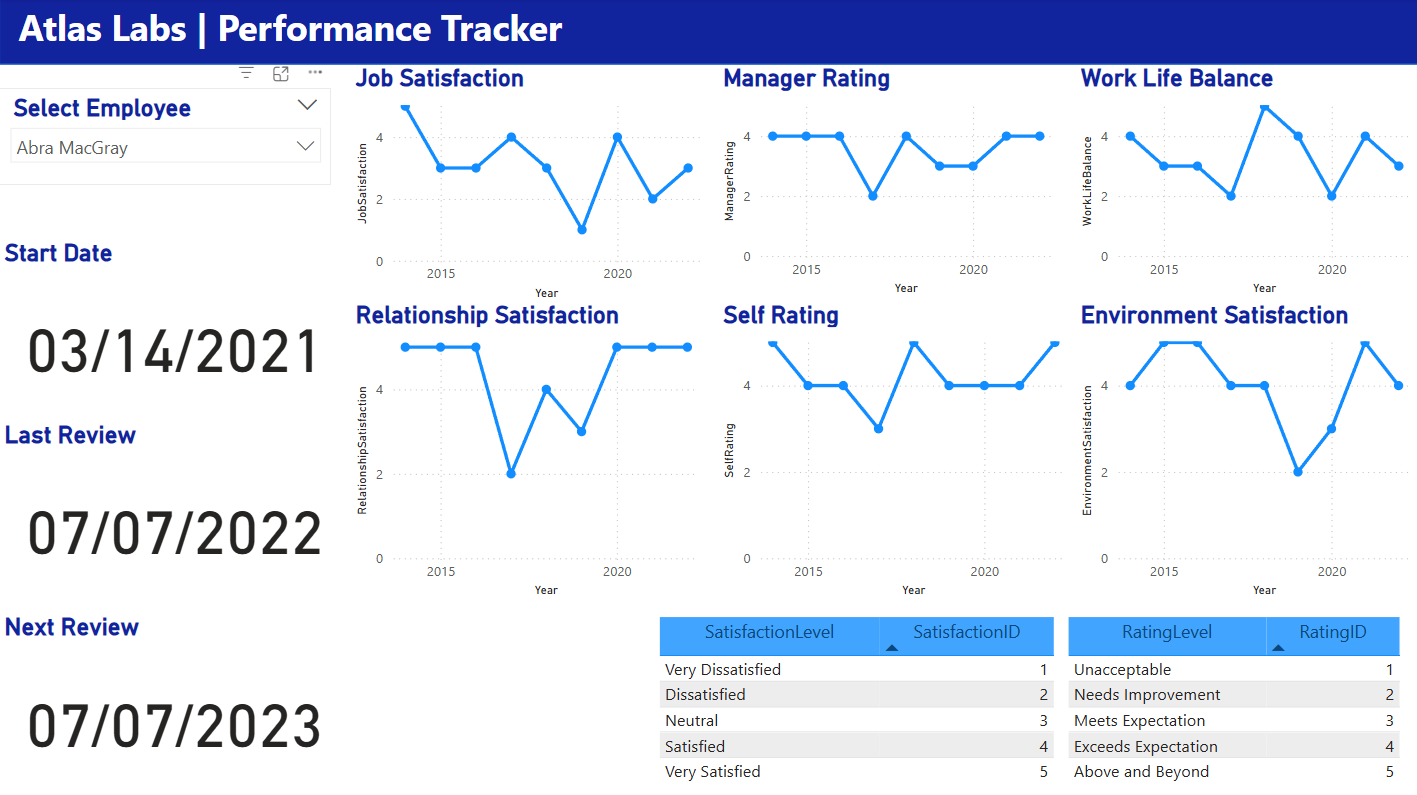

What the dashboard file says about the page in this screenshot:
{"tool":"powerbi","page":{"name":"Performance Tracker","canvas":[1280,720],"ordinal":2},"visuals":[{"type":"lineChart","title":"Environment Satisfaction","fields":{"Y":["_Measures.EnvironmentSatisfaction"],"Category":["DimDate.Year"]},"box":[970.3,272.4,309.7,272.4],"z":0},{"type":"lineChart","title":"Job Satisfaction","fields":{"Category":["DimDate.Year"],"Y":["_Measures.JobSatisfaction"]},"box":[317.1,60,322.9,217.1],"z":1000},{"type":"lineChart","title":"Relationship Satisfaction","fields":{"Y":["_Measures.RelationshipSatisfaction"],"Category":["DimDate.Year"]},"box":[317.2,272.4,322.2,272.4],"z":2000},{"type":"lineChart","title":"Work Life Balance","fields":{"Category":["DimDate.Year"],"Y":["_Measures.WorkLifeBalance"]},"box":[970,60,310,212.9],"z":3000},{"type":"lineChart","title":"Self Rating","fields":{"Y":["_Measures.SelfRating"],"Category":["DimDate.Year"]},"box":[648.1,272.4,322.2,272.4],"z":4000},{"type":"lineChart","title":"Manager Rating","fields":{"Category":["DimDate.Year"],"Y":["_Measures.ManagerRating"]},"box":[648.6,60,308.6,212.9],"z":5000},{"type":"slicer","fields":{"Values":["DimEmployee.FullName"]},"box":[0,81.4,300,87.1],"z":6000},{"type":"card","title":"Last Review","fields":{"Values":["_Measures.LastReviewDate"]},"box":[0,381.4,317.1,164.3],"z":7000},{"type":"card","title":"Next Review","fields":{"Values":["_Measures.NextReviewDate"]},"box":[0,554.3,317.1,165.7],"z":8000},{"type":"card","title":"Start Date","fields":{"Values":["Min(DimEmployee.HireDate)"]},"box":[0,217.1,317.1,164.3],"z":9000},{"type":"tableEx","fields":{"Values":["DimSatisfiedLevel.SatisfactionLevel","DimSatisfiedLevel.SatisfactionID"]},"box":[589.6,553.6,368.2,166.7],"z":10000},{"type":"tableEx","fields":{"Values":["DimRatingLevel.RatingLevel","DimRatingLevel.RatingID"]},"box":[957.8,553.6,322.2,165.4],"z":11000},{"type":"shape","box":[0,0,1280,60],"z":12000},{"type":"textbox","box":[0,0,525.2,59.7],"z":13000}]}

Visuals, with their boxes in screenshot pixels (x1, y1, x2, y2), scaled from the page's 1280x720 canvas onto the 1417x795 screenshot:
"Environment Satisfaction" lineChart: [1074,301,1416,602]
"Job Satisfaction" lineChart: [351,66,708,306]
"Relationship Satisfaction" lineChart: [351,301,708,602]
"Work Life Balance" lineChart: [1074,66,1416,301]
"Self Rating" lineChart: [717,301,1074,602]
"Manager Rating" lineChart: [718,66,1060,301]
slicer - DimEmployee.FullName: [0,90,332,186]
"Last Review" card: [0,421,351,603]
"Next Review" card: [0,612,351,794]
"Start Date" card: [0,240,351,421]
tableEx - DimSatisfiedLevel.SatisfactionLevel x DimSatisfiedLevel.SatisfactionID: [653,611,1060,794]
tableEx - DimRatingLevel.RatingLevel x DimRatingLevel.RatingID: [1060,611,1416,794]
shape: [0,0,1416,66]
textbox: [0,0,581,66]
